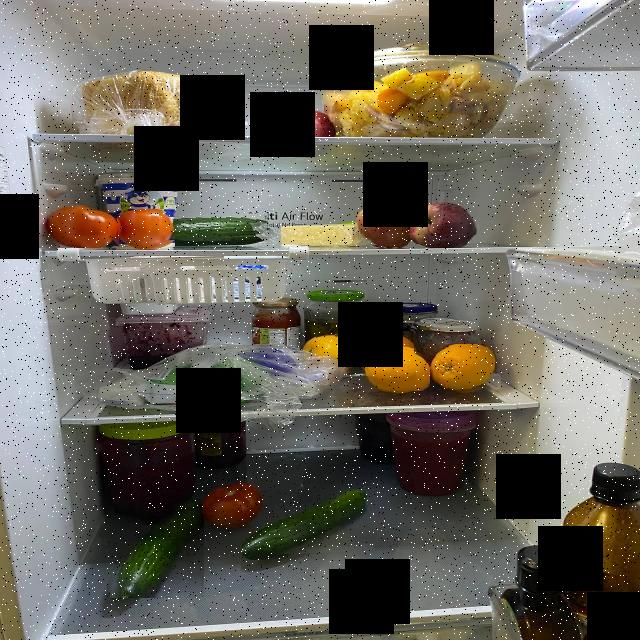Apple: (408, 199, 479, 244), (360, 201, 418, 246), (280, 106, 335, 137)
Cucumber: (100, 500, 204, 598), (242, 489, 382, 556), (160, 213, 270, 241)
Orange: (430, 344, 502, 395), (366, 348, 430, 391), (306, 333, 354, 367), (358, 331, 414, 360)
Tomato: (39, 205, 124, 248), (204, 483, 264, 528), (116, 209, 175, 248)
